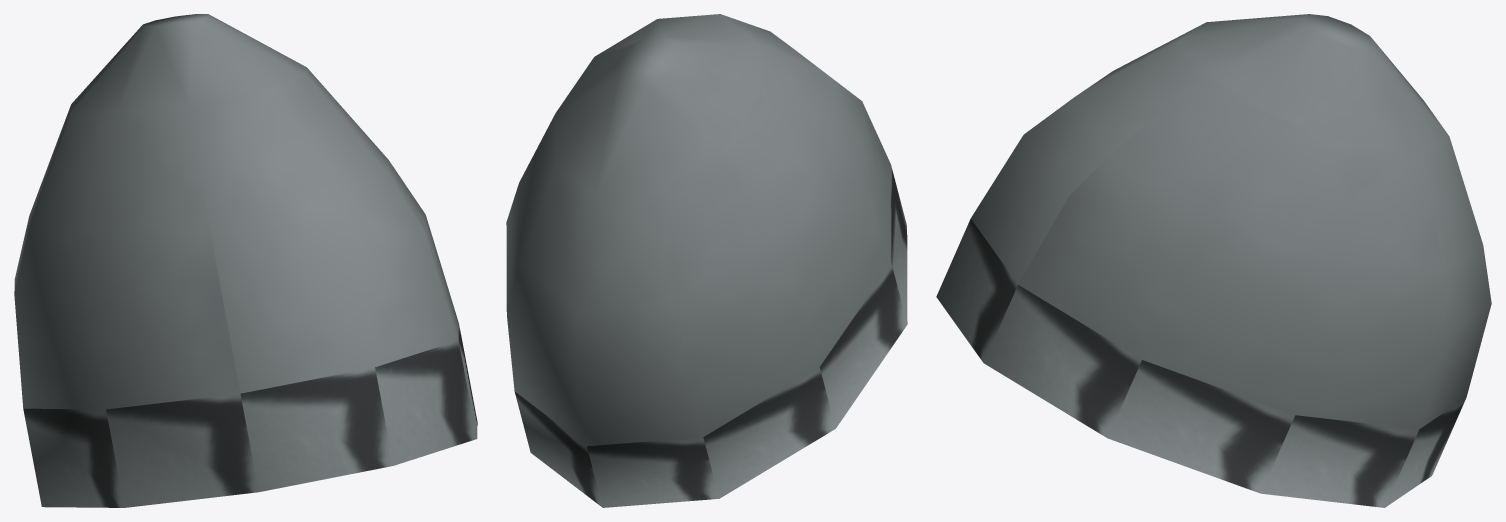
File: inca_a_1.dae
The picture shows the model from 3 angles, left to right: view 1: azimuth 30°, elevation 25°; view 2: azimuth 150°, elevation 25°; view 3: azimuth 270°, elevation 25°; orthographic projection. The views are drawn at different scales.
Parts seen in each view (by area): view 1: inca_a_01; view 2: inca_a_01; view 3: inca_a_01.
Part boxes in pixels (x1=…): inca_a_01: x1=14, y1=14, x2=477, y2=507; inca_a_01: x1=506, y1=14, x2=907, y2=507; inca_a_01: x1=936, y1=14, x2=1491, y2=507.
Bounding box in the file's own units: 0.4255 × 0.6265 × 0.5687.
